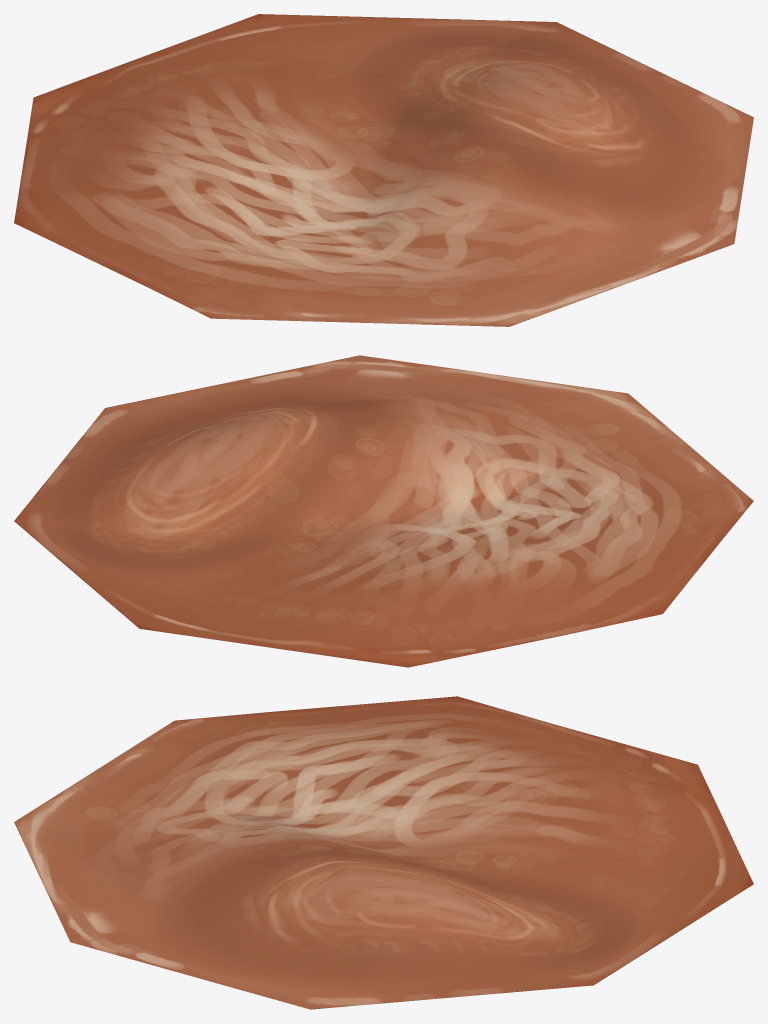
Rendered from ramenBouillon.fbx.
3 views of the same model, one above another, from view 1: azimuth 30°, elevation 25°; view 2: azimuth 150°, elevation 25°; view 3: azimuth 270°, elevation 25° (orthographic). The views are drawn at different scales.
Parts seen in each view (by area): view 1: ramenBouillon; view 2: ramenBouillon; view 3: ramenBouillon.
Boxes of the visible parts, x1,y1,x2,y2 form: ramenBouillon: (14, 14, 753, 326); ramenBouillon: (14, 355, 753, 667); ramenBouillon: (14, 696, 753, 1009).
Bounding box in the file's own units: 29.23 × 2.1 × 29.22.
